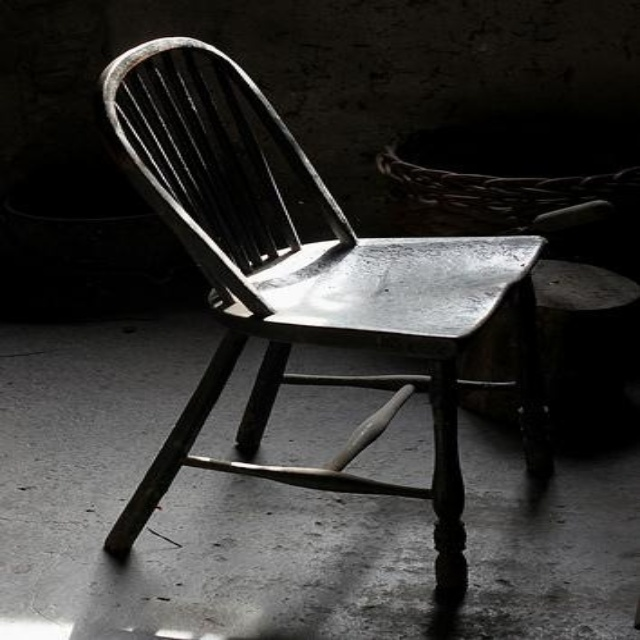obstacle: (101, 37, 551, 600)
